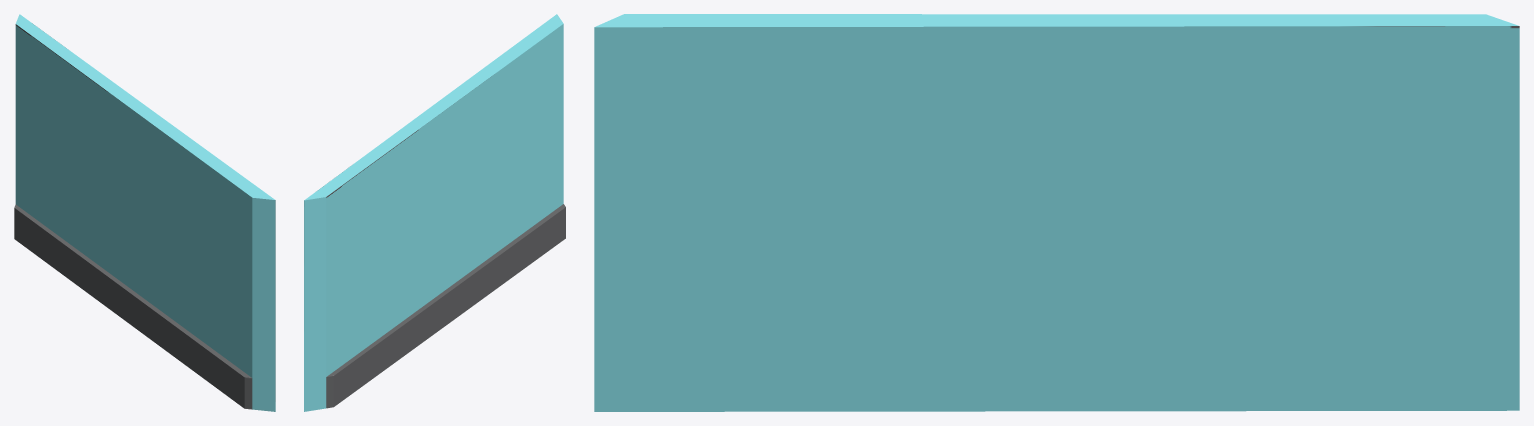
The model's file is wall1.fbx.
3 views of the same model, side by side, from view 1: azimuth 30°, elevation 25°; view 2: azimuth 150°, elevation 25°; view 3: azimuth 270°, elevation 25° (orthographic). The views are drawn at different scales.
Visible parts, largest first — view 1: wall01; view 2: wall01; view 3: wall01.
Boxes of the visible parts, x1=… form: wall01: x1=14, y1=14, x2=275, y2=411; wall01: x1=304, y1=14, x2=565, y2=411; wall01: x1=594, y1=14, x2=1519, y2=411.
Size of the model in its own units: 63.61 by 642 by 1400.
1 material, 1 textured.
